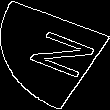N_SE: (13, 26, 97, 84)
